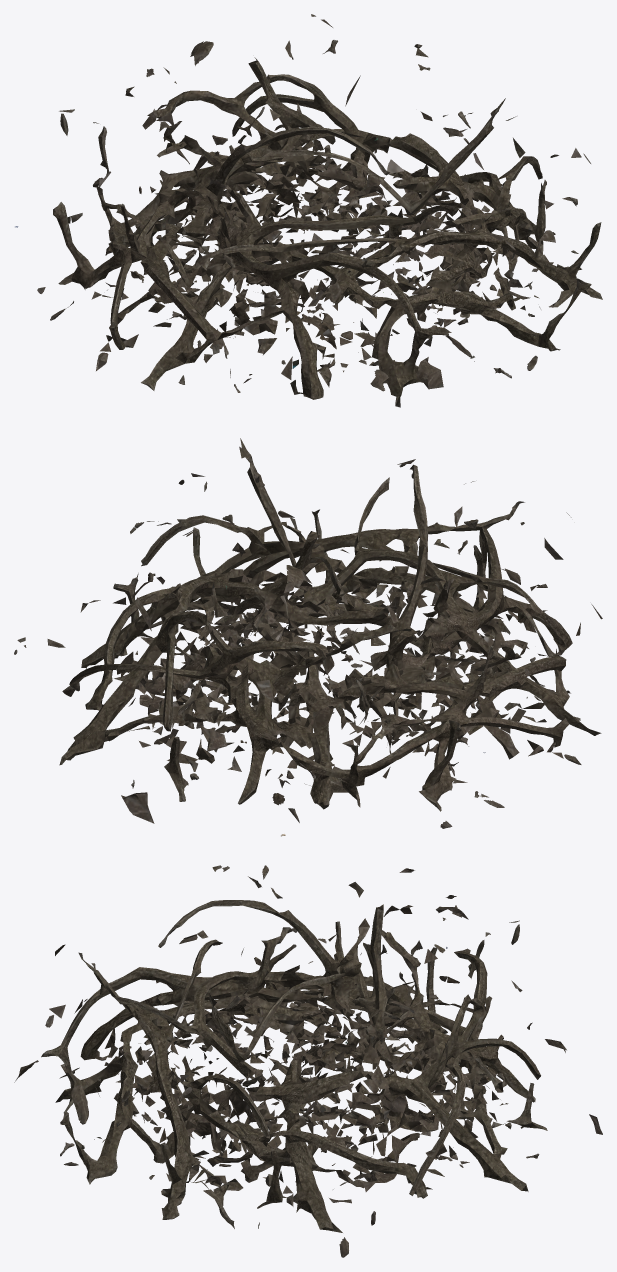
The picture shows the model from 3 angles, top to bottom: view 1: azimuth 30°, elevation 25°; view 2: azimuth 150°, elevation 25°; view 3: azimuth 270°, elevation 25°; orthographic projection. The views are drawn at different scales.
Bounding box in the file's own units: 1.67 × 0.806 × 1.83.
1 material, 1 textured.
